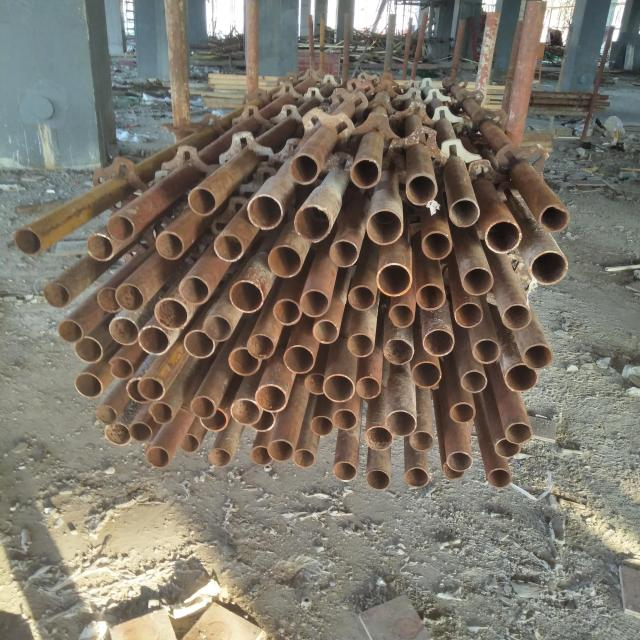pipe: (528, 249, 568, 287), (293, 205, 332, 243), (366, 209, 404, 246), (374, 262, 413, 298), (483, 219, 523, 254), (246, 194, 284, 230), (403, 172, 438, 206), (152, 298, 188, 331), (267, 244, 301, 278), (348, 156, 381, 191), (228, 280, 264, 312), (288, 151, 320, 186), (504, 363, 541, 393), (422, 327, 456, 358), (177, 274, 212, 304), (254, 383, 289, 413), (460, 266, 494, 296), (138, 325, 170, 356), (282, 345, 316, 374), (420, 231, 454, 260), (414, 283, 448, 312), (501, 301, 532, 332), (154, 229, 184, 261), (183, 328, 215, 358), (228, 346, 260, 376), (323, 373, 355, 403), (448, 198, 480, 228), (537, 204, 570, 233), (213, 233, 244, 263), (382, 337, 414, 366), (229, 398, 262, 426), (300, 288, 330, 318), (186, 187, 217, 216), (411, 361, 442, 390), (453, 301, 485, 329), (72, 336, 105, 363), (108, 316, 139, 344), (328, 240, 359, 268), (522, 343, 553, 371), (470, 338, 502, 365), (74, 371, 104, 399), (86, 232, 114, 262), (114, 283, 144, 311), (203, 314, 232, 342), (272, 297, 300, 326), (364, 424, 393, 452), (386, 410, 416, 437), (14, 228, 43, 255), (106, 214, 135, 241), (347, 285, 376, 312), (198, 406, 228, 432), (43, 282, 70, 310), (345, 332, 374, 358), (459, 368, 488, 394), (189, 394, 217, 420), (388, 303, 416, 329), (57, 318, 84, 344), (312, 318, 339, 344), (106, 355, 134, 380), (136, 376, 164, 401), (246, 334, 274, 359), (103, 422, 132, 446), (446, 449, 476, 472), (147, 400, 173, 426), (448, 400, 476, 424), (332, 408, 359, 432), (505, 422, 532, 446), (493, 436, 521, 459), (268, 438, 294, 462), (96, 286, 119, 313), (404, 465, 431, 488), (252, 409, 276, 434), (356, 374, 380, 399), (332, 460, 359, 482), (366, 467, 390, 491), (409, 430, 435, 452), (486, 467, 512, 489), (144, 447, 171, 468), (249, 444, 273, 467), (126, 377, 148, 402), (206, 447, 232, 468), (94, 404, 117, 426), (304, 372, 325, 396), (309, 415, 334, 435), (294, 447, 316, 469), (130, 421, 153, 442), (441, 462, 466, 481), (178, 433, 200, 453)
